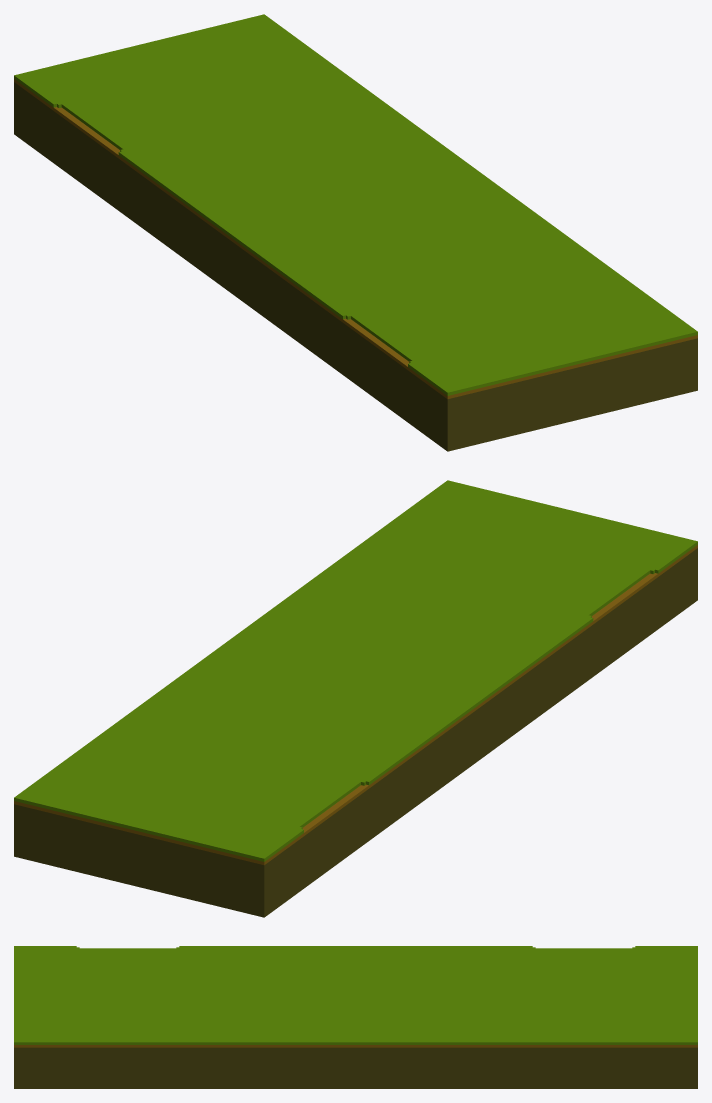
File: Tab B1-0.obj
The picture shows the model from 3 angles, top to bottom: view 1: azimuth 30°, elevation 25°; view 2: azimuth 150°, elevation 25°; view 3: azimuth 270°, elevation 25°; orthographic projection. The views are drawn at different scales.
Bounding box in the file's own units: 8 × 1.8 × 24.
Materials: 1 (1 with a texture image).
